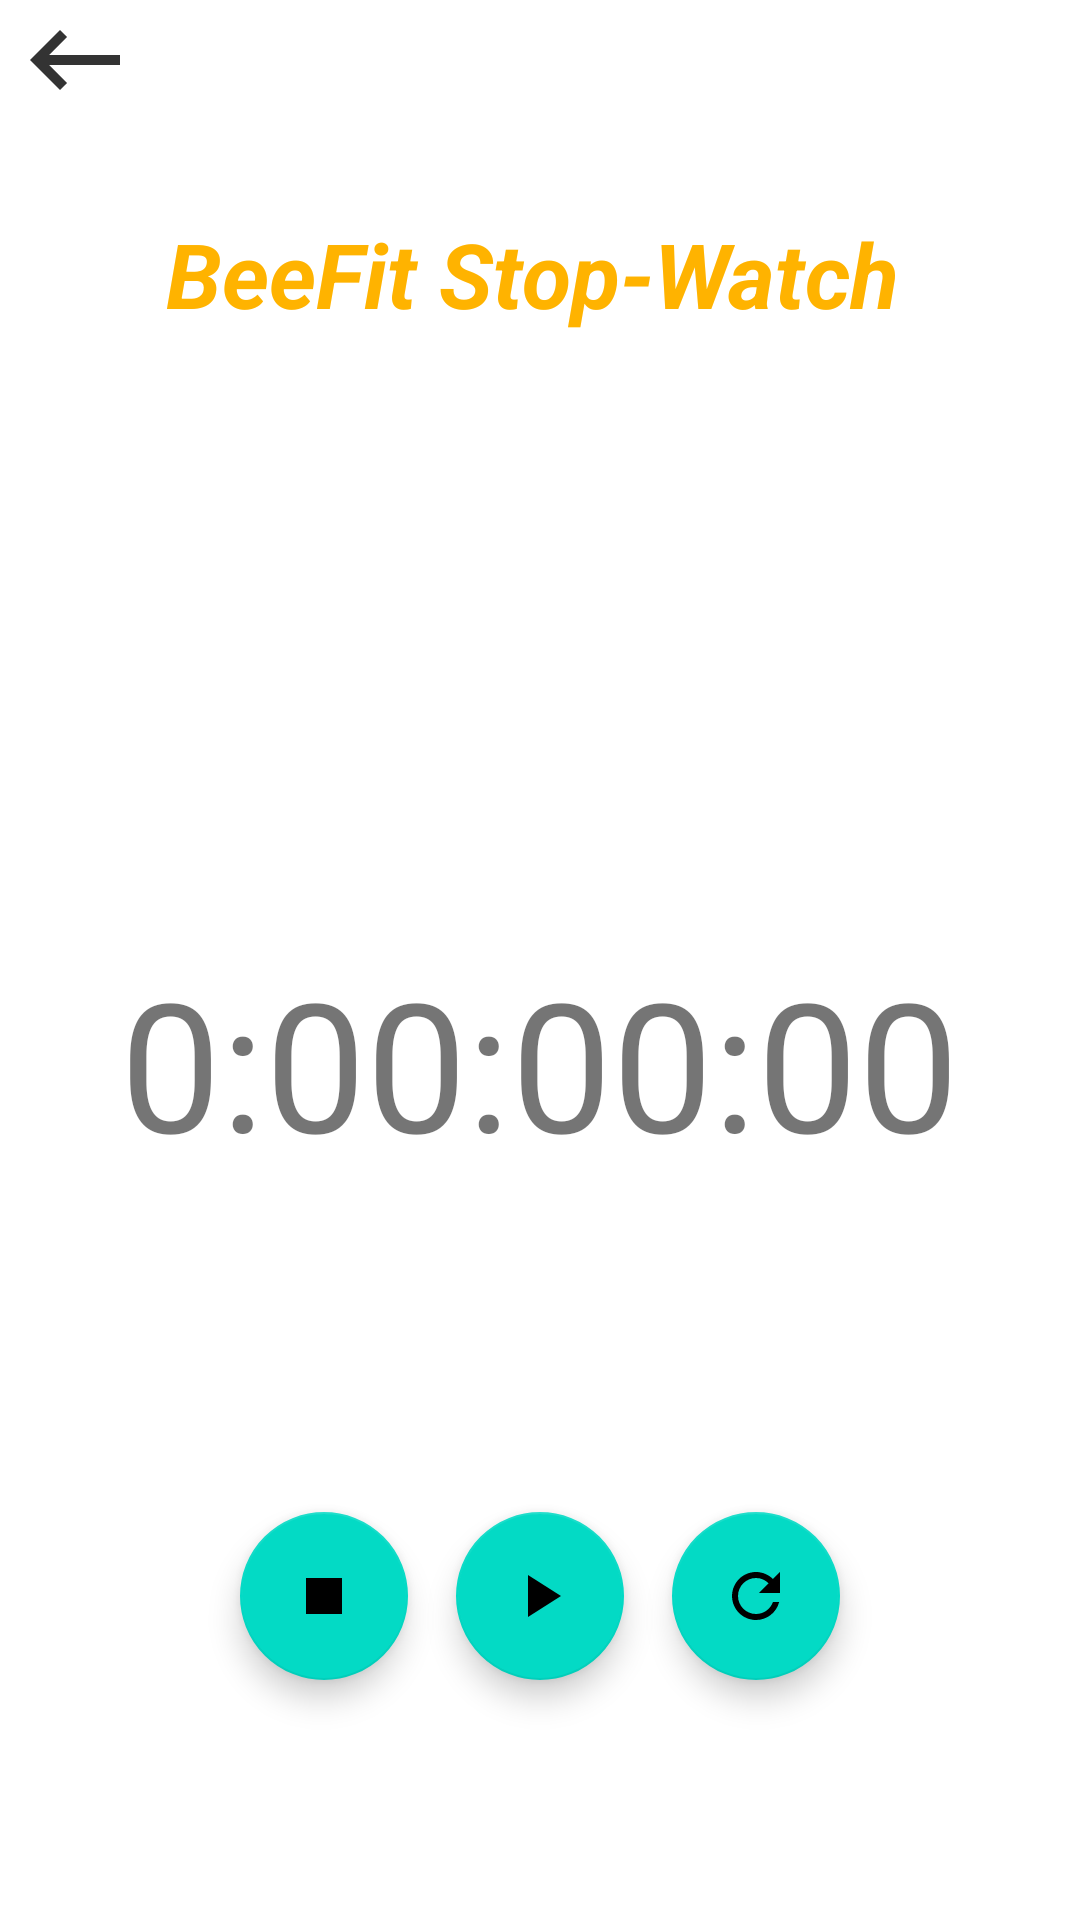

Icon click points for this 1080*1920 phone screenshot, format [x,y]:
play arrow: [540,1596]
refresh: [756,1596]
return arrow: [75,60]
stop: [324,1596]
